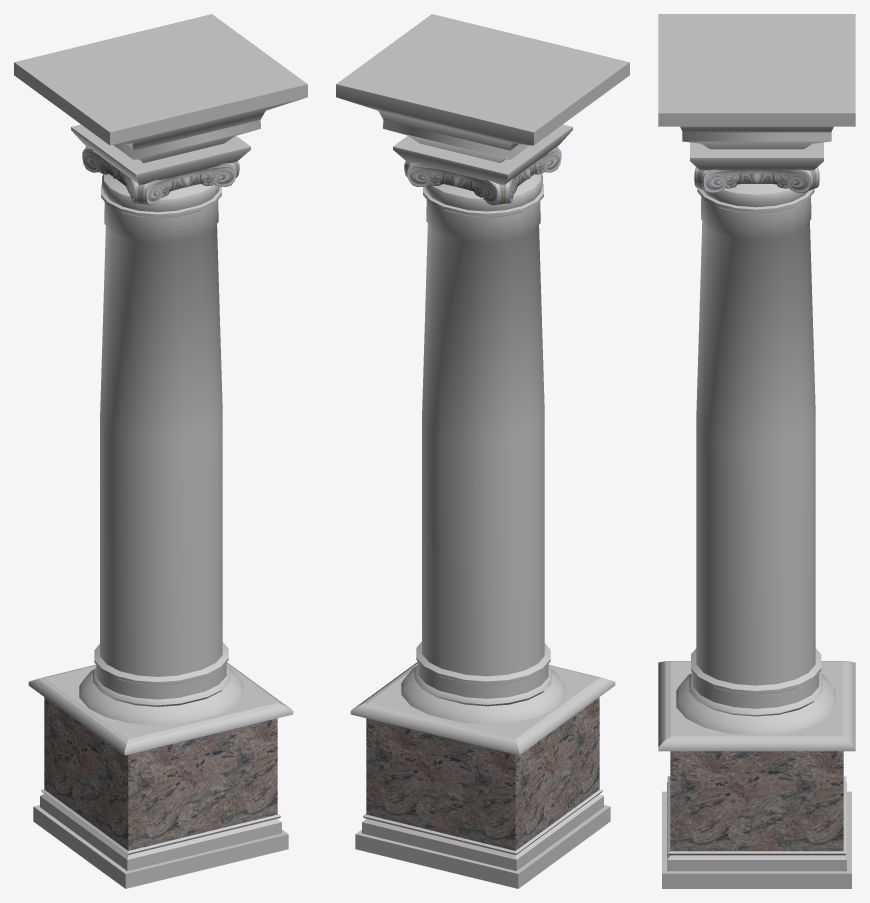
The model's file is Pillar.FBX.
3 views of the same model, side by side, from view 1: azimuth 30°, elevation 25°; view 2: azimuth 150°, elevation 25°; view 3: azimuth 270°, elevation 25° (orthographic). The views are drawn at different scales.
Parts seen in each view (by area): view 1: Pillar; view 2: Pillar; view 3: Pillar.
Part boxes in pixels (<box>): Pillar: <box>14,14,307,888</box>; Pillar: <box>336,14,629,888</box>; Pillar: <box>658,14,855,888</box>.
Bounding box in the file's own units: 2.3 × 8.47 × 1.93.
